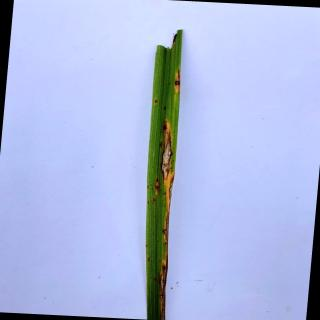Blast: (160, 129, 174, 180), (163, 212, 170, 245), (168, 176, 175, 200), (160, 294, 166, 320), (160, 271, 166, 293), (174, 73, 180, 93), (162, 261, 168, 273), (155, 180, 159, 195), (154, 99, 158, 104)
